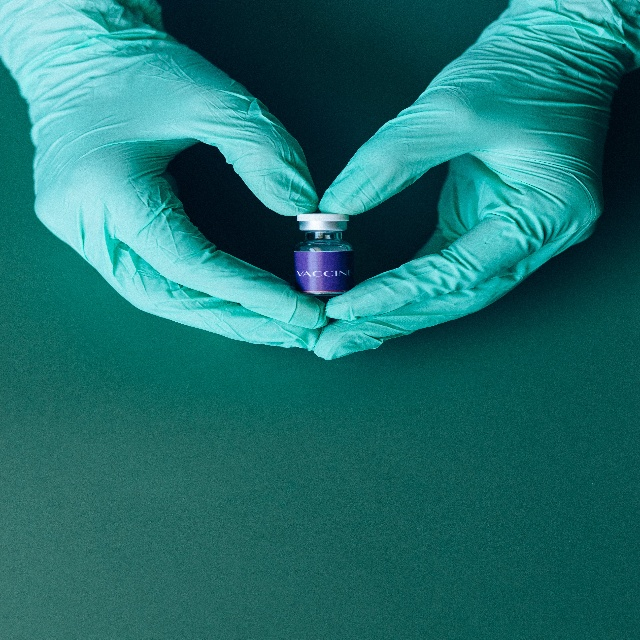Guantes: (0, 0, 329, 350), (310, 0, 632, 354)
